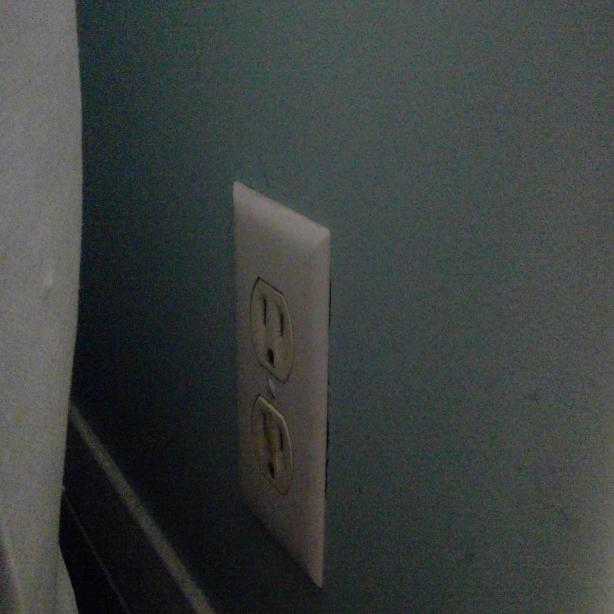typeb: (247, 281, 296, 371), (250, 398, 294, 494)
